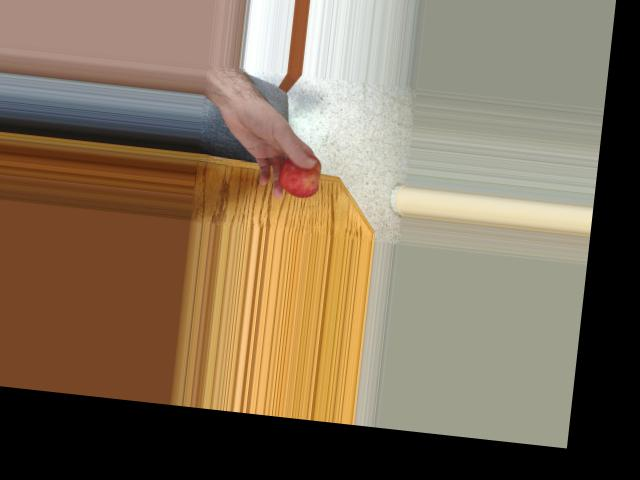apple: (276, 151, 326, 198)
